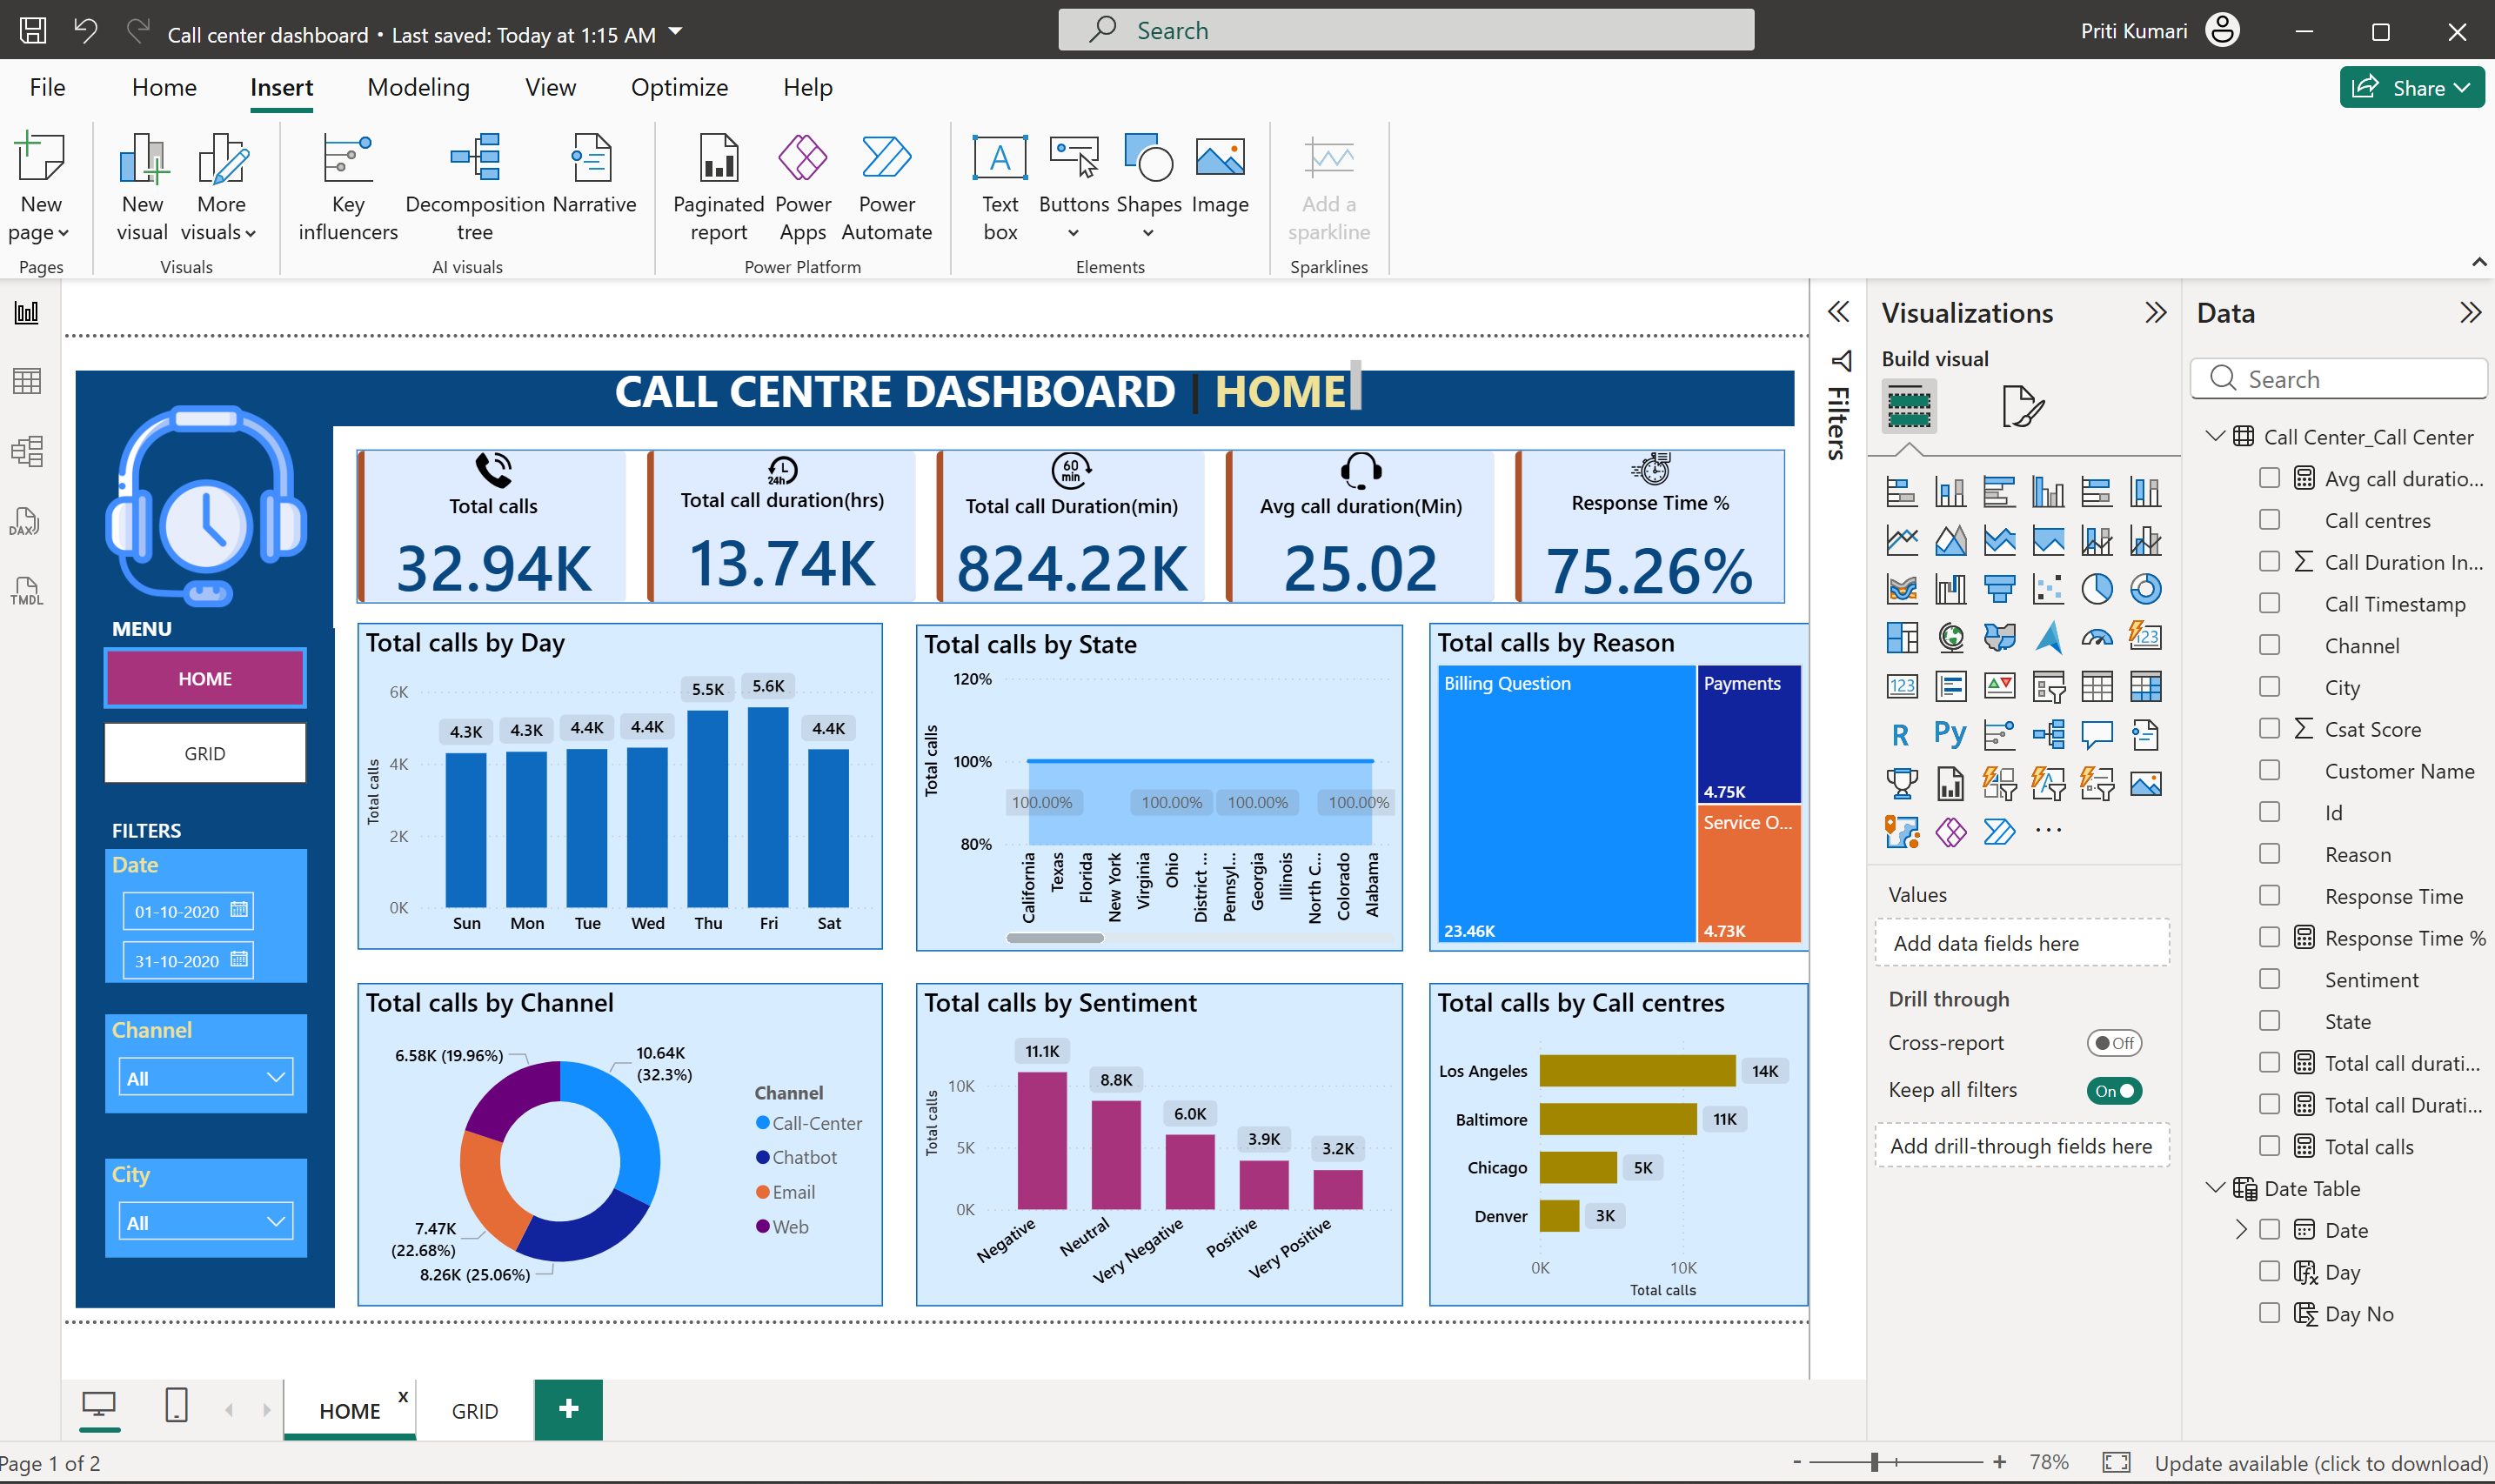

Layout of this report page (visuals, bound fields, positions):
{"tool":"powerbi","page":{"name":"HOME","canvas":[1280,720],"ordinal":0},"visuals":[{"type":"shape","box":[10.2,24.2,1259.6,51],"z":0},{"type":"shape","box":[10.2,24.2,190,687.2],"z":1000},{"type":"cardVisual","fields":{"Data":["Call Center_Call Center.Total calls","Call Center_Call Center.Total call duration(hrs)","Call Center_Call Center.Total call Duration(min)","Call Center_Call Center.Avg call duration(Min)","Call Center_Call Center.Response Time %"]},"box":[198.9,65,1081.1,147.9],"z":2000},{"type":"textbox","box":[400.3,11.5,557.1,49.7],"z":3000},{"type":"columnChart","fields":{"Category":["Date Table.Day"],"Y":["Call Center_Call Center.Total calls"]},"box":[216.7,209.1,385,239.7],"z":4000},{"type":"hundredPercentStackedAreaChart","fields":{"Y":["Call Center_Call Center.Total calls"],"Category":["Call Center_Call Center.State"]},"box":[626,210.4,357,239.7],"z":5000},{"type":"treemap","fields":{"Group":["Call Center_Call Center.Reason"],"Values":["Call Center_Call Center.Total calls"]},"box":[1002.1,209.1,279.2,241],"z":6000},{"type":"donutChart","fields":{"Category":["Call Center_Call Center.Channel"],"Y":["Call Center_Call Center.Total calls"]},"box":[216.7,473,385,237.1],"z":7000},{"type":"columnChart","fields":{"Category":["Call Center_Call Center.Sentiment"],"Y":["Call Center_Call Center.Total calls"]},"box":[626,473,357,237],"z":8000},{"type":"barChart","fields":{"Category":["Call Center_Call Center.Call-Centres City"],"Y":["Call Center_Call Center.Total calls"]},"box":[1002.1,473,277.9,237.1],"z":9000},{"type":"slicer","title":"Date","fields":{"Values":["Date Table.Date"]},"box":[31.9,374.8,147.9,98.2],"z":10000},{"type":"slicer","title":"Channel","fields":{"Values":["Call Center_Call Center.Channel"]},"box":[31.9,495.9,147.9,72.7],"z":11000},{"type":"slicer","title":"City","fields":{"Values":["Call Center_Call Center.City"]},"box":[31.9,601.8,147.9,72.7],"z":12000},{"type":"image","box":[20.4,49.7,170.8,147.9],"z":13000},{"type":"pageNavigator","box":[30.6,226.9,149.2,100.7],"z":14000},{"type":"textbox","box":[31.9,197.6,57.4,29.3],"z":15000},{"type":"textbox","box":[31.9,345.5,73.9,29.3],"z":16000}]}

Visuals, with their boxes on the page's 1280x720 design canvas (x1, y1, x2, y2). These are canvas units, not pixel positions in the 2495x1484 screenshot, which may show the page scaled, cropped or inside an application window:
shape: <box>10,24,1270,75</box>
shape: <box>10,24,200,711</box>
cardVisual - Call Center_Call Center.Total calls x Call Center_Call Center.Total call duration(hrs): <box>199,65,1280,213</box>
textbox: <box>400,12,957,61</box>
columnChart - Date Table.Day x Call Center_Call Center.Total calls: <box>217,209,602,449</box>
hundredPercentStackedAreaChart - Call Center_Call Center.Total calls x Call Center_Call Center.State: <box>626,210,983,450</box>
treemap - Call Center_Call Center.Reason x Call Center_Call Center.Total calls: <box>1002,209,1281,450</box>
donutChart - Call Center_Call Center.Channel x Call Center_Call Center.Total calls: <box>217,473,602,710</box>
columnChart - Call Center_Call Center.Sentiment x Call Center_Call Center.Total calls: <box>626,473,983,710</box>
barChart - Call Center_Call Center.Call-Centres City x Call Center_Call Center.Total calls: <box>1002,473,1280,710</box>
"Date" slicer: <box>32,375,180,473</box>
"Channel" slicer: <box>32,496,180,569</box>
"City" slicer: <box>32,602,180,674</box>
image: <box>20,50,191,198</box>
pageNavigator: <box>31,227,180,328</box>
textbox: <box>32,198,89,227</box>
textbox: <box>32,346,106,375</box>
